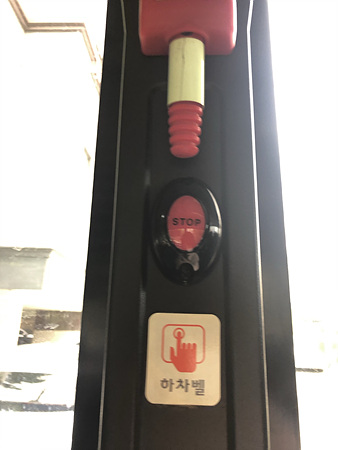bell: (150, 178, 223, 282)
